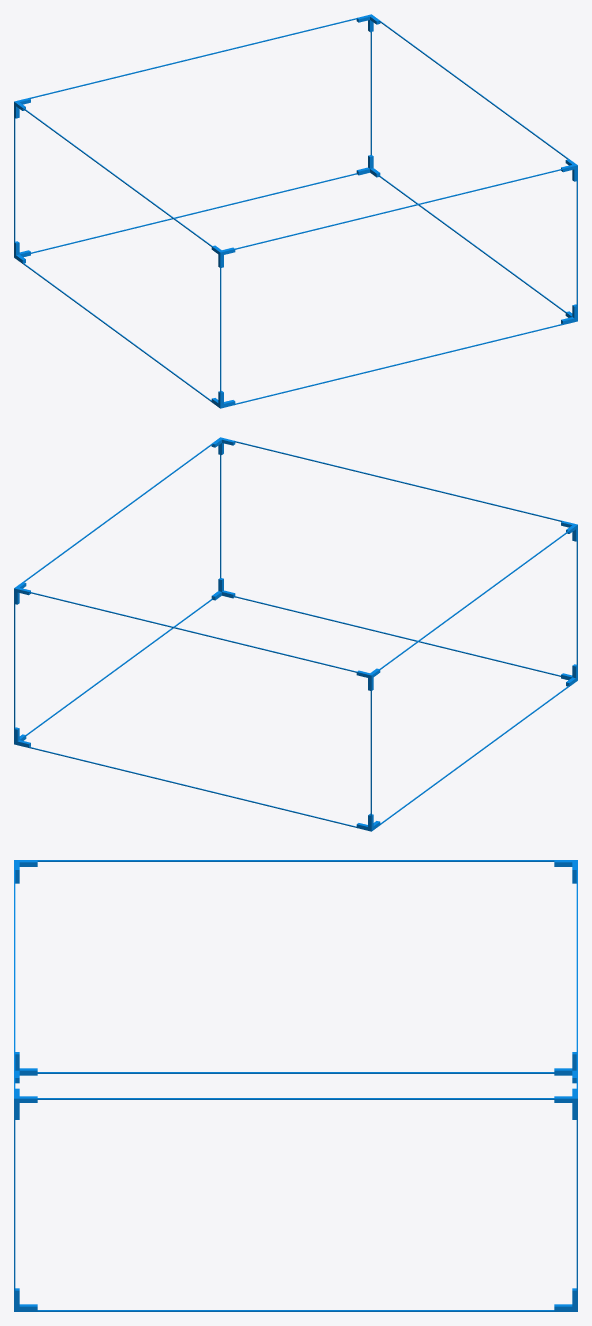
The model's file is ASTROFISH_Block_UI_02.FBX.
3 renders of one model, top to bottom at view 1: azimuth 30°, elevation 25°; view 2: azimuth 150°, elevation 25°; view 3: azimuth 270°, elevation 25°, orthographic. The views are drawn at different scales.
Parts seen in each view (by area): view 1: ASTROFISH_Block_UI_02; view 2: ASTROFISH_Block_UI_02; view 3: ASTROFISH_Block_UI_02.
Boxes of the visible parts, bbox=[...] form: ASTROFISH_Block_UI_02: bbox=[14, 14, 577, 408]; ASTROFISH_Block_UI_02: bbox=[14, 437, 577, 831]; ASTROFISH_Block_UI_02: bbox=[14, 860, 577, 1311].
Size of the model in its own units: 6 by 2.5 by 5.99.
